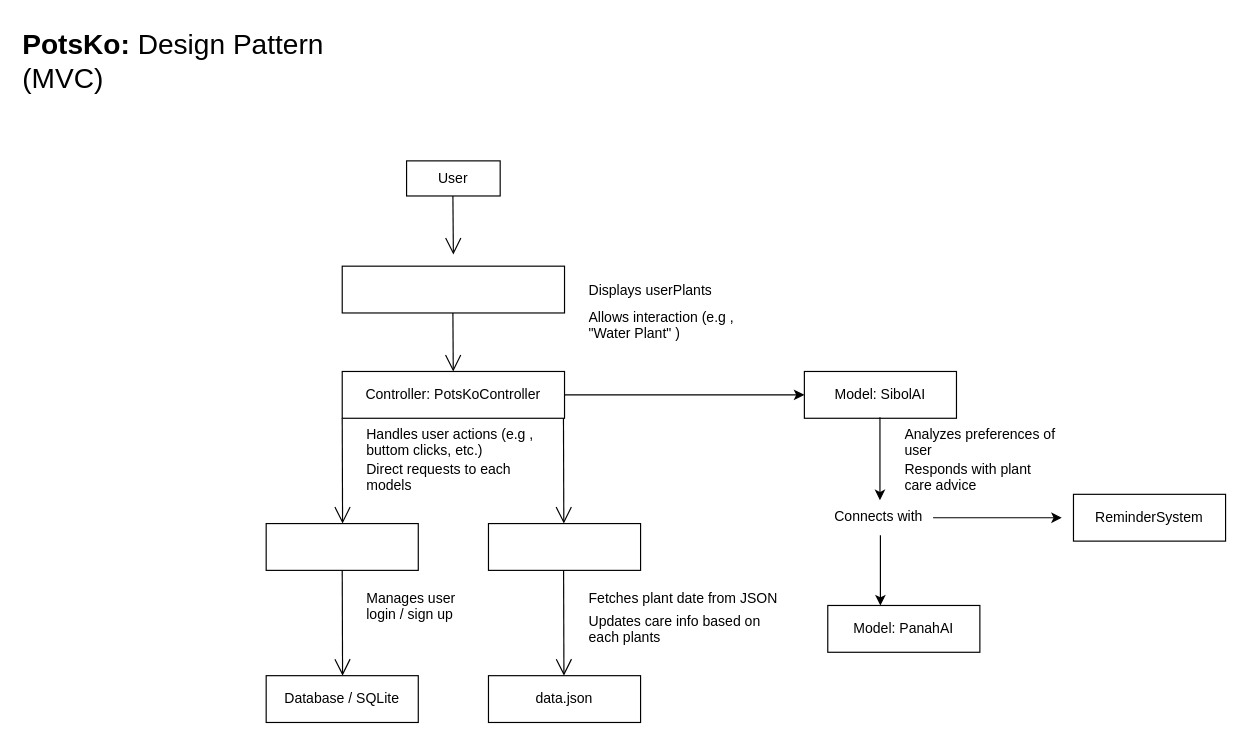
Some shapes in this 1246 by 743 pixel diagram are drawn without their labels. The shapes that lost their labels are listed below. From the top down, each one's centre as x and y in pixels, then its label:
the point at 453,289: View UI: Dashboard Interface
the point at 341,546: Model: UserModel
the point at 564,546: Model: PlantModel
